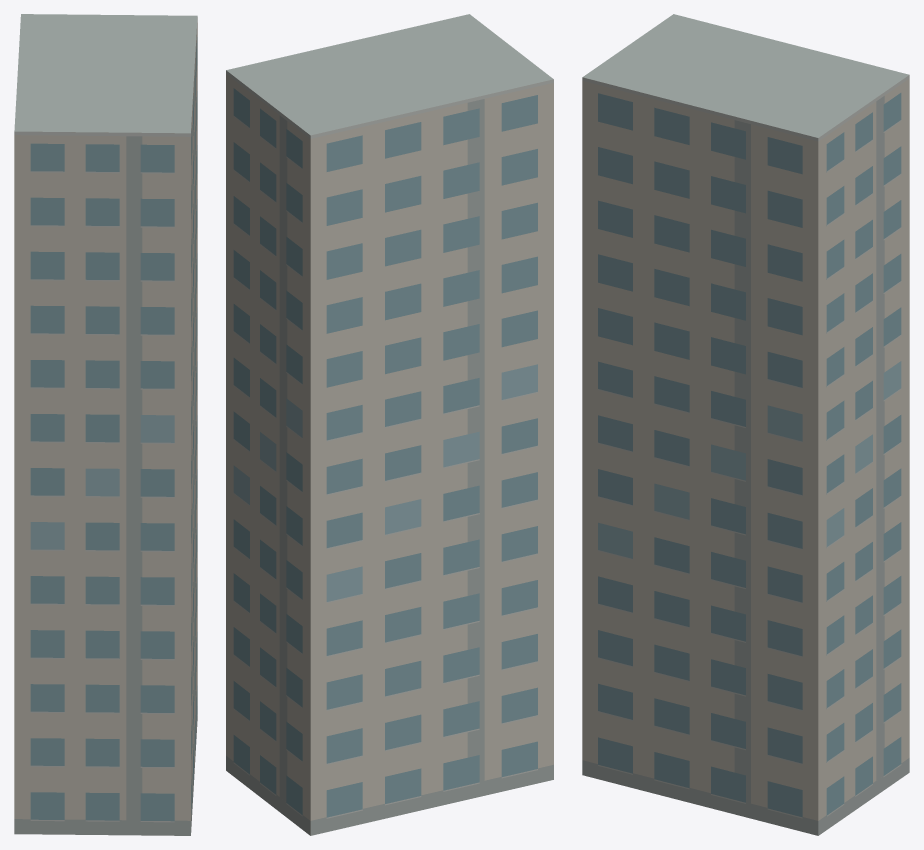
Rendered from residential-4cdf39ac-1565-45e6-8df3-c8cad3599117.glb.
The picture shows the model from 3 angles, left to right: view 1: azimuth 30°, elevation 25°; view 2: azimuth 150°, elevation 25°; view 3: azimuth 270°, elevation 25°; orthographic projection.
Visible parts, largest first — view 1: residential-4cdf39ac-1565-45e6-8df3-c8cad3599117.tmp; view 2: residential-4cdf39ac-1565-45e6-8df3-c8cad3599117.tmp; view 3: residential-4cdf39ac-1565-45e6-8df3-c8cad3599117.tmp.
Boxes of the visible parts, bbox=[...] form: residential-4cdf39ac-1565-45e6-8df3-c8cad3599117.tmp: bbox=[14, 14, 197, 835]; residential-4cdf39ac-1565-45e6-8df3-c8cad3599117.tmp: bbox=[226, 14, 553, 835]; residential-4cdf39ac-1565-45e6-8df3-c8cad3599117.tmp: bbox=[582, 14, 909, 835].
Bounding box in the file's own units: 18.31 × 48 × 20.4.
